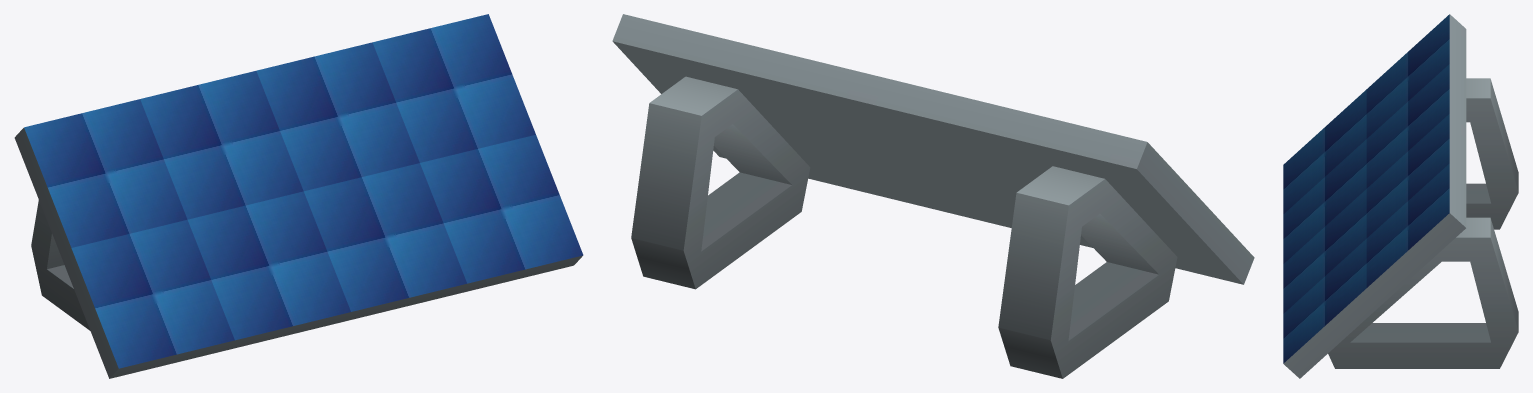
Rendered from solarpanel.glb.
The picture shows the model from 3 angles, left to right: view 1: azimuth 30°, elevation 25°; view 2: azimuth 150°, elevation 25°; view 3: azimuth 270°, elevation 25°; orthographic projection. The views are drawn at different scales.
Visible parts, largest first — view 1: solarpanel; view 2: solarpanel; view 3: solarpanel.
Boxes of the visible parts, x1,y1,x2,y2 form: solarpanel: [14, 14, 583, 378]; solarpanel: [612, 14, 1254, 378]; solarpanel: [1283, 14, 1518, 378].
Size of the model in its own units: 0.9 by 0.3709 by 0.45.
1 material, 1 textured.
